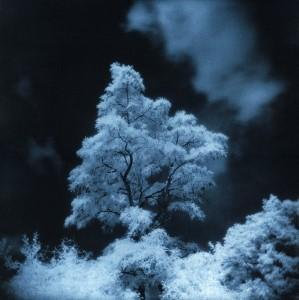bleached_corals: (42, 59, 244, 274), (163, 196, 299, 300)
